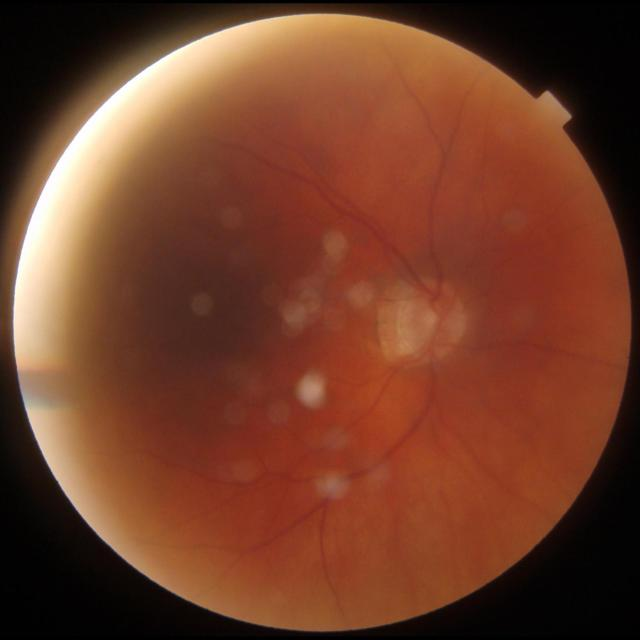OC: (423, 311, 439, 328)
OD: (394, 280, 467, 359)
